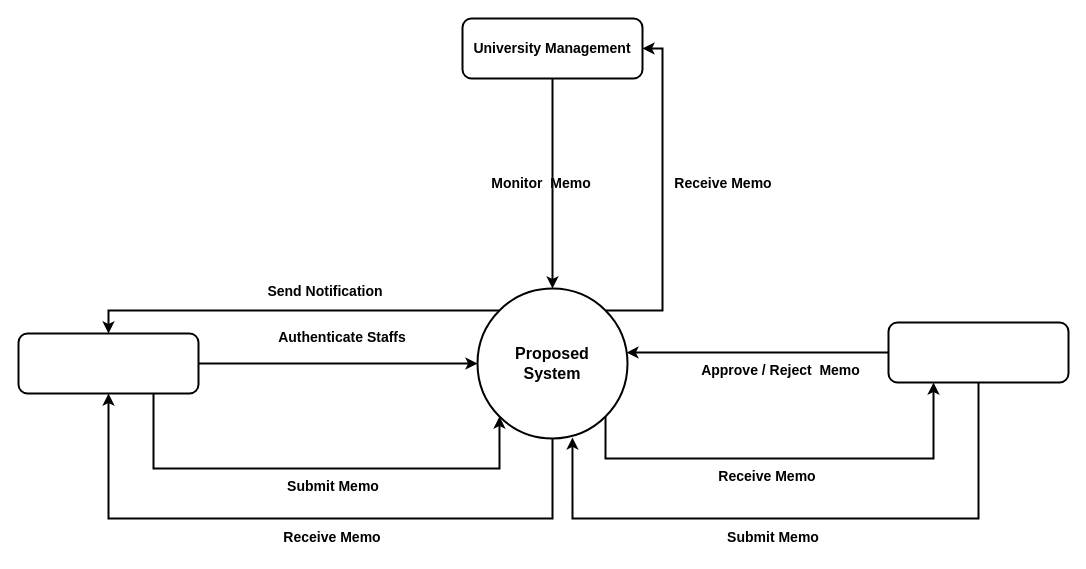
The diagram is 1086 pixels wide and 569 high, and some of its shapes have lost their labels. The shapes that lost their labels are listed below. From the top down, each one's box as (x1, y1, x2, y2) in pixels, then its label:
(17, 332, 199, 394): General Staffs
(887, 321, 1069, 383): Department Heads
